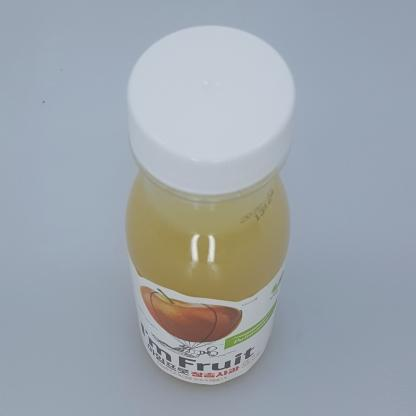--------------215ML: (126, 24, 296, 386)
